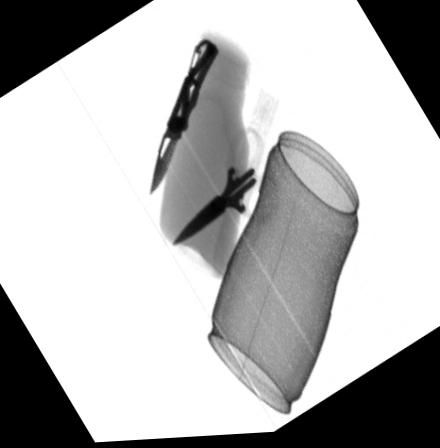Knife: (148, 39, 218, 199)
Scissors: (170, 130, 280, 246)
